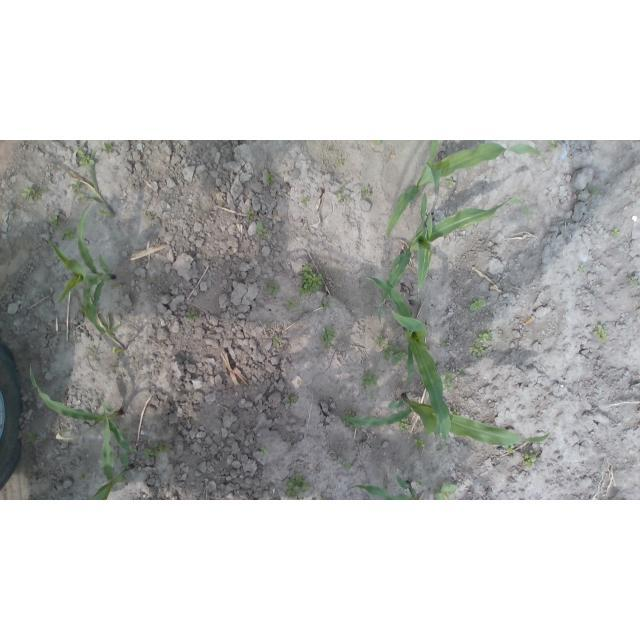Maize: (377, 197, 531, 327), (386, 140, 546, 246), (360, 276, 450, 444), (328, 390, 559, 445), (43, 203, 125, 334), (28, 362, 133, 450), (91, 393, 133, 499), (67, 149, 114, 216), (345, 476, 420, 501)
Weeds: (299, 265, 323, 295), (286, 474, 309, 499), (143, 442, 169, 459), (434, 483, 459, 500), (322, 326, 336, 347), (521, 449, 537, 467), (78, 149, 95, 165), (23, 185, 42, 199), (361, 373, 379, 387), (444, 372, 456, 392), (394, 345, 408, 362), (595, 323, 608, 341), (477, 331, 493, 345), (265, 281, 279, 296), (103, 140, 118, 154), (257, 221, 268, 239), (469, 299, 484, 312), (25, 432, 40, 445), (63, 228, 76, 241), (472, 345, 487, 356), (383, 342, 393, 358), (547, 141, 561, 152), (335, 183, 346, 195), (265, 171, 276, 183), (401, 419, 412, 430), (415, 437, 425, 449), (445, 177, 455, 188), (577, 262, 586, 274), (285, 395, 297, 404), (377, 335, 386, 346), (247, 212, 258, 221), (186, 308, 198, 316), (275, 336, 282, 349), (630, 275, 639, 285), (301, 197, 310, 207), (113, 346, 123, 354), (337, 157, 344, 168), (362, 187, 370, 196), (506, 445, 514, 454), (287, 301, 297, 308), (53, 217, 61, 225), (611, 228, 620, 235), (323, 300, 330, 309), (439, 442, 446, 451), (344, 463, 352, 470), (416, 479, 423, 486), (145, 212, 151, 220), (457, 368, 464, 374), (81, 474, 87, 481), (339, 197, 345, 203), (441, 341, 447, 347), (591, 189, 596, 196), (348, 412, 355, 417), (343, 420, 349, 425), (260, 448, 264, 455), (375, 140, 381, 144)
